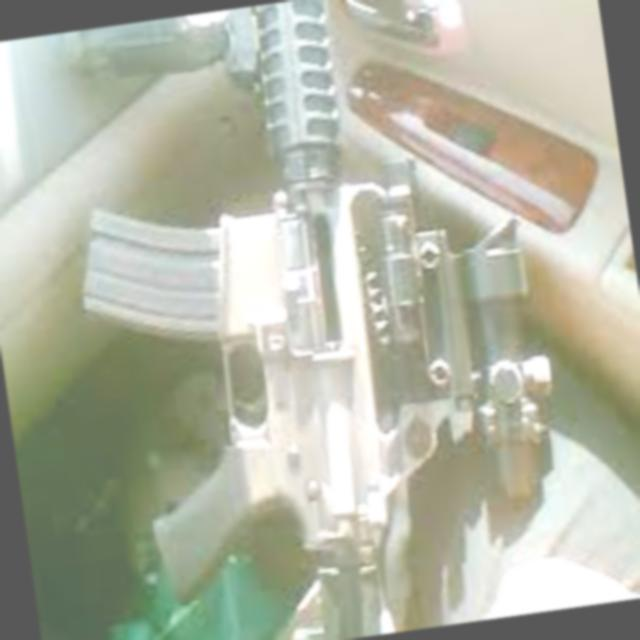m16: (59, 6, 507, 631)
